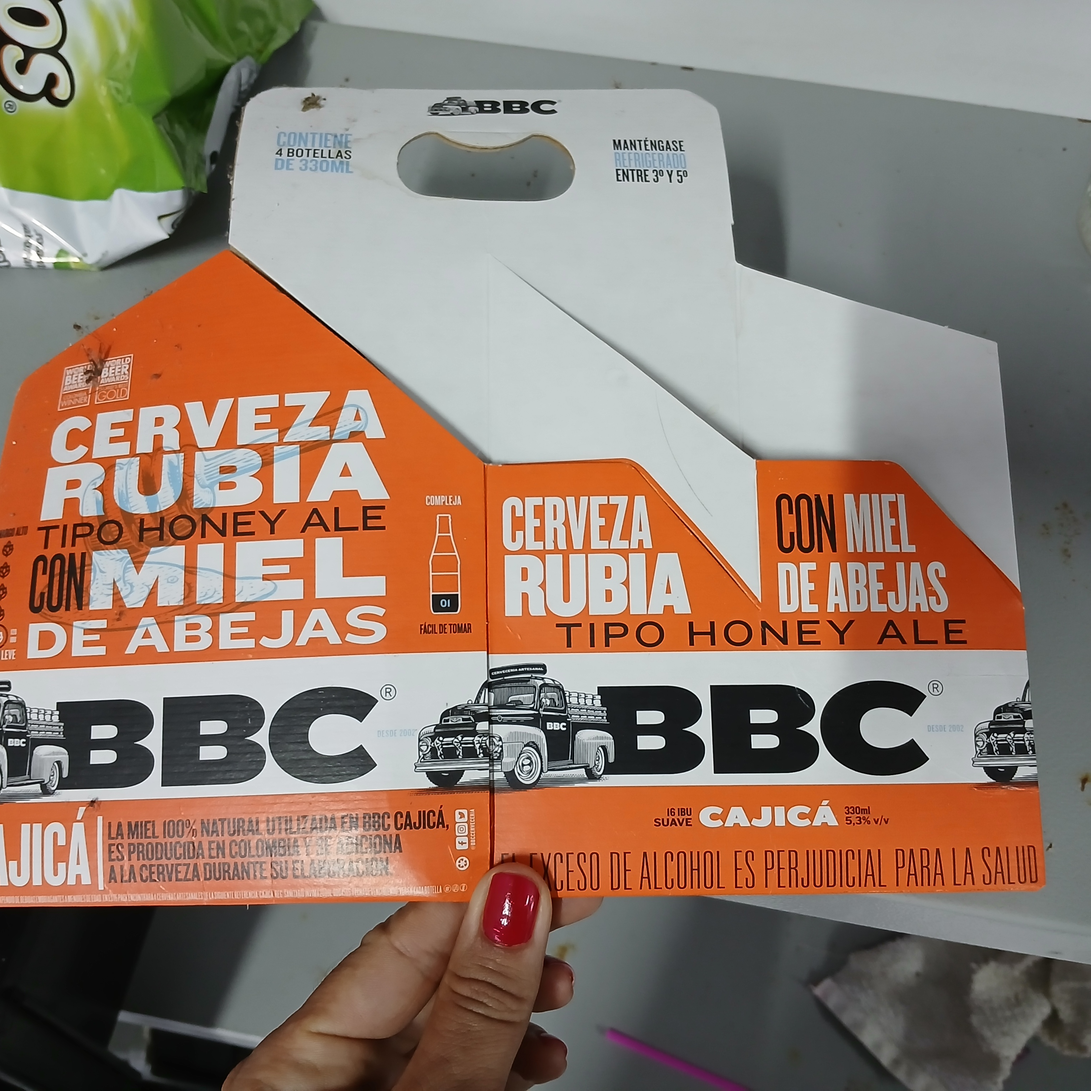Carton: (0, 88, 1042, 905)
